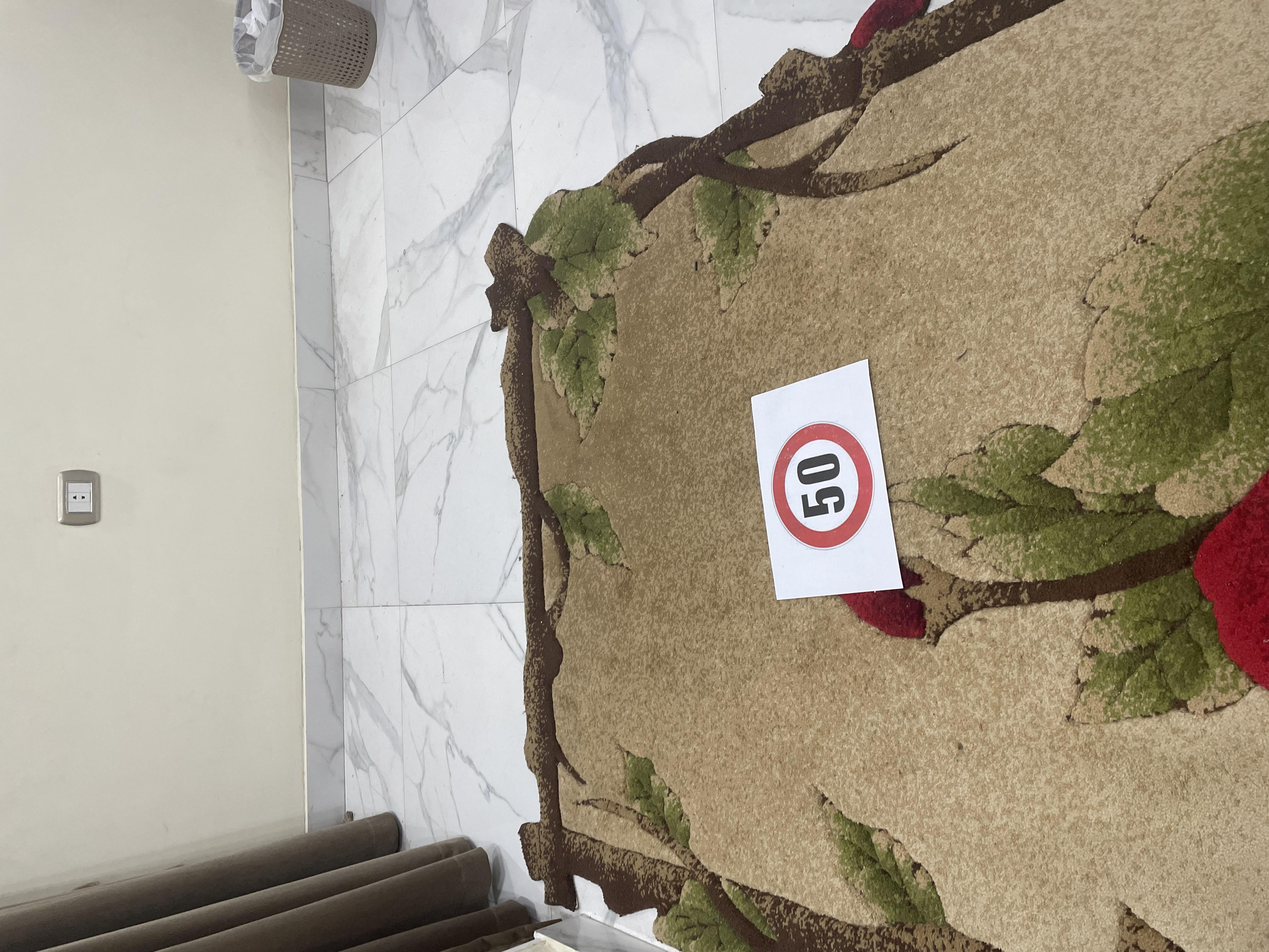50-Speed: (529, 578, 714, 658)
